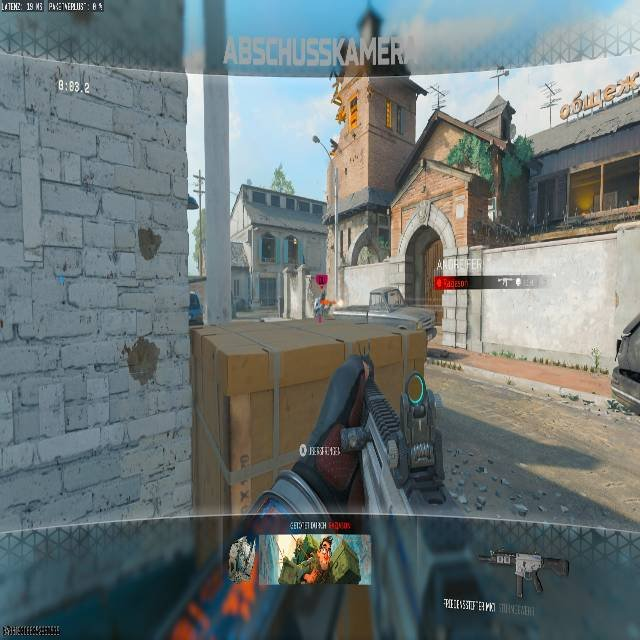player: (313, 292, 327, 324)
